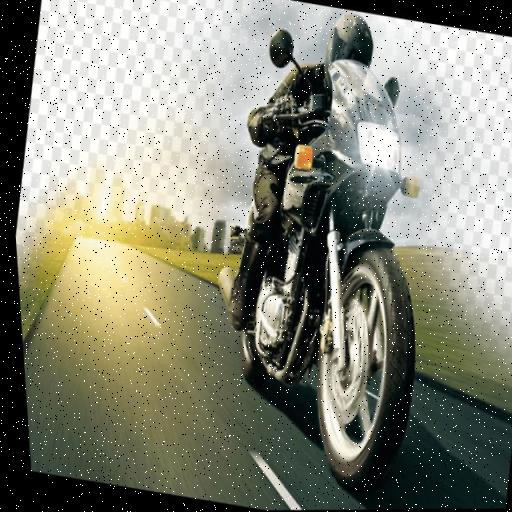Helmet: (316, 6, 380, 80)
Motor: (198, 53, 481, 509)
